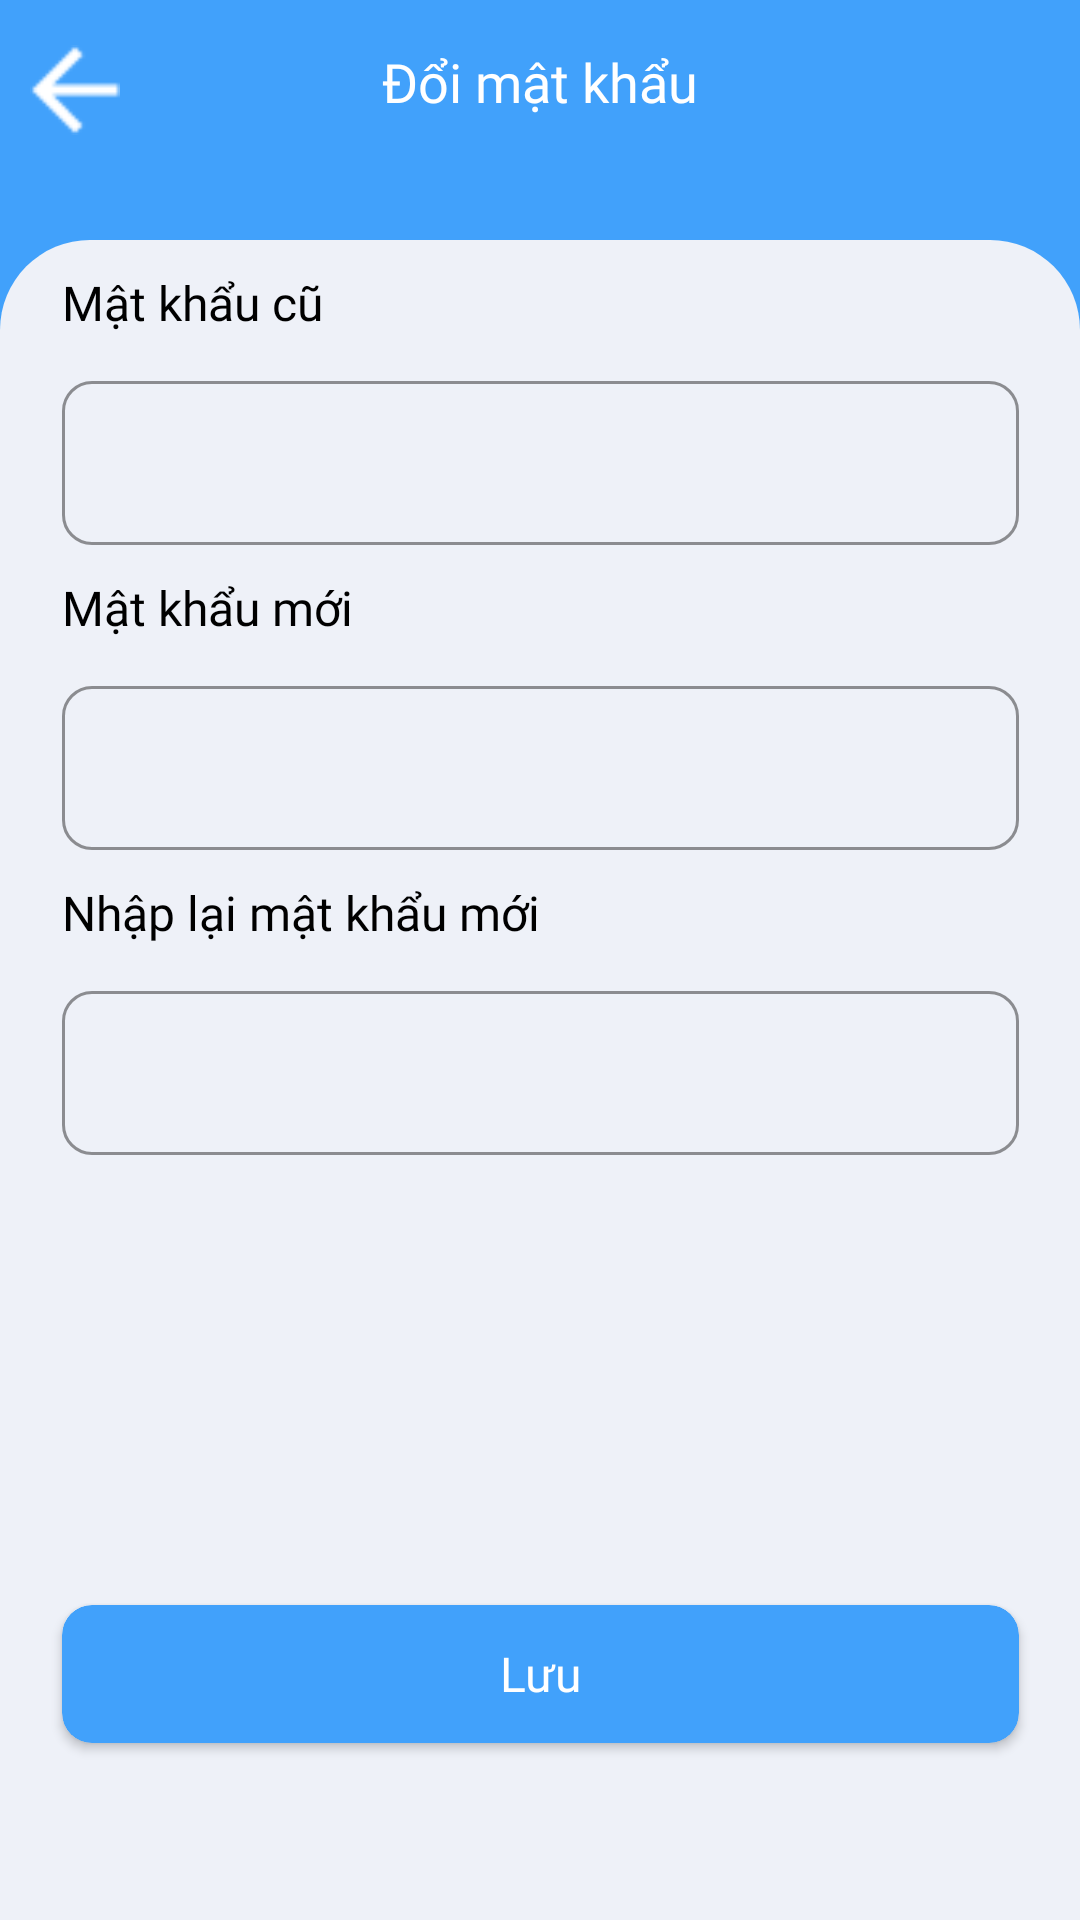

Screen size 1080 × 1920. Icon name, then its box in pixels as (x1, y1, x2, y2):
arrow back: (32, 47, 120, 133)
